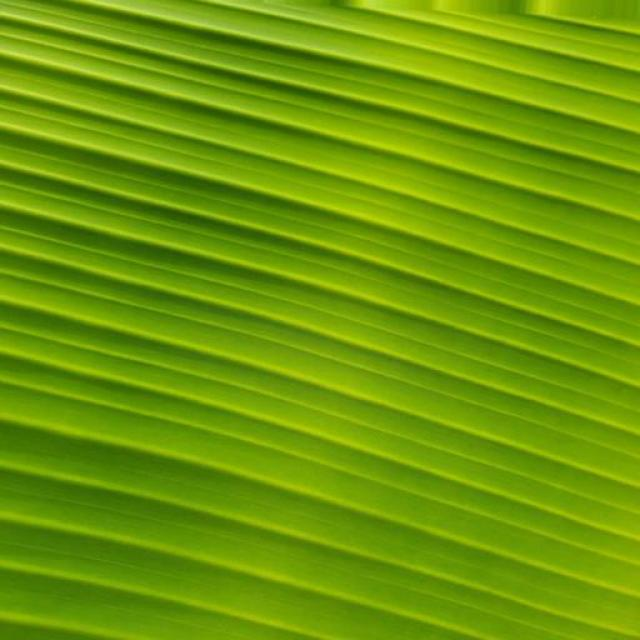Black_leaf_spot: (5, 0, 601, 640)
